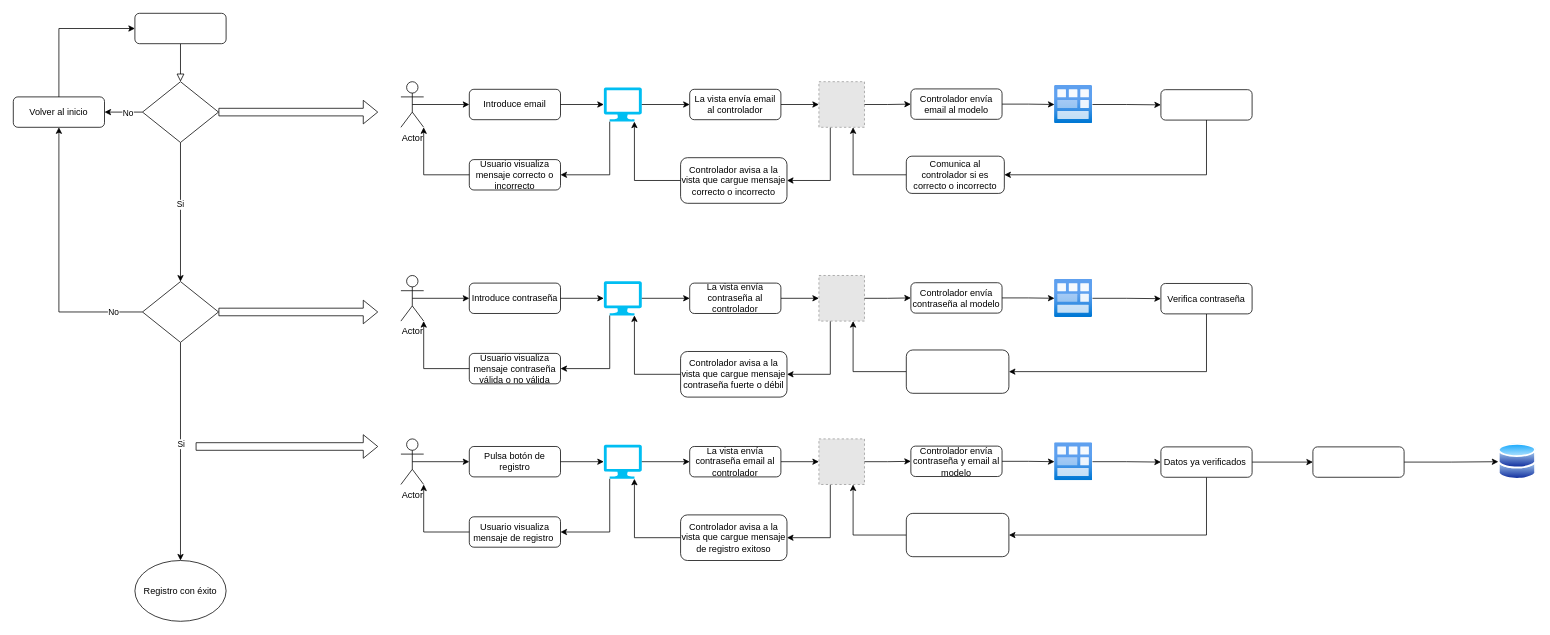
This 1550x635 diagram has some shape labels left out. Grey dashed boxes stand in for pictures. Here are the shapes that lost their labels. From the top down, the box of each, then its label:
(134, 13, 226, 44): Usuario procede a registrarse
(142, 81, 218, 142): Email correcto
(1160, 89, 1252, 120): Verifica email
(142, 281, 218, 342): Contraseña valida
(906, 349, 1009, 393): Comunica al controlador si la contraseña es fuerte o débil
(1312, 446, 1404, 477): Se guardan en la BBDD
(906, 513, 1009, 557): Comunica al controlador registro con éxito
